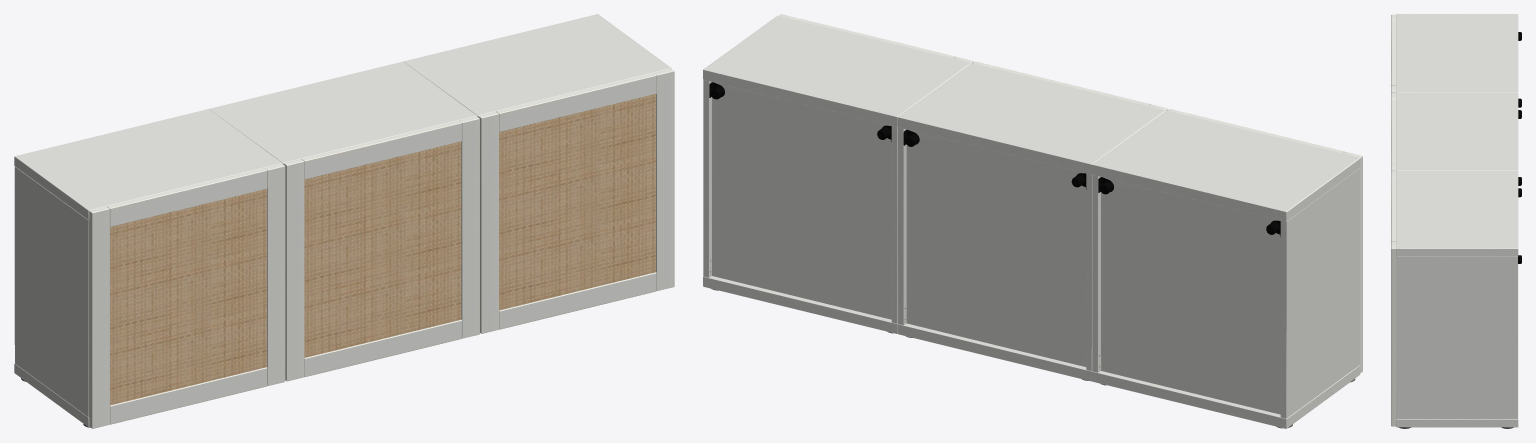
The model's file is 42 - BESTÅ - 上牆式收納櫃組合, 白色 Studsviken白色 楊樹纖維織, 180x42x64 公分 IKEA 線上購物.glb.
The picture shows the model from 3 angles, left to right: view 1: azimuth 30°, elevation 25°; view 2: azimuth 150°, elevation 25°; view 3: azimuth 270°, elevation 25°; orthographic projection. The views are drawn at different scales.
Visible parts, largest first — view 1: model, model.001; view 2: model.001, model; view 3: model.001, model.
Boxes of the visible parts, x1,y1,x2,y2 form: model: (89, 69, 674, 428); model.001: (14, 14, 671, 427); model.001: (703, 15, 1360, 428); model: (779, 14, 1362, 372); model.001: (1396, 14, 1521, 428); model: (1391, 14, 1396, 426).
Bounding box in the file's own units: 1.8 × 0.648 × 0.4236.
2 materials, 2 textured.
